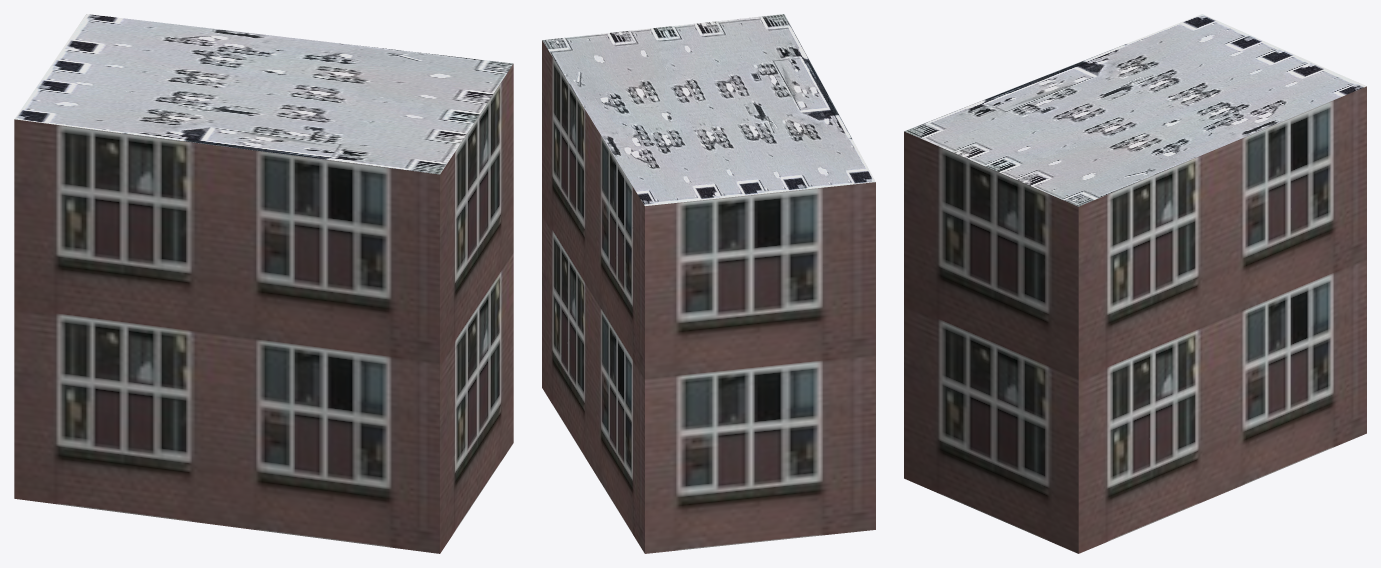
Rendered from ResTex__1568.fbx.
3 views of the same model, side by side, from view 1: azimuth 30°, elevation 25°; view 2: azimuth 150°, elevation 25°; view 3: azimuth 270°, elevation 25° (orthographic). The views are drawn at different scales.
Parts seen in each view (by area): view 1: CityEngineMaterial_12_m, CityEngineMaterial_4_m; view 2: CityEngineMaterial_12_m, CityEngineMaterial_4_m; view 3: CityEngineMaterial_12_m, CityEngineMaterial_4_m.
Boxes of the visible parts, bbox=[...] form: CityEngineMaterial_12_m: bbox=[14, 64, 513, 553]; CityEngineMaterial_4_m: bbox=[14, 14, 513, 174]; CityEngineMaterial_12_m: bbox=[542, 40, 875, 553]; CityEngineMaterial_4_m: bbox=[542, 14, 875, 206]; CityEngineMaterial_12_m: bbox=[904, 86, 1366, 553]; CityEngineMaterial_4_m: bbox=[904, 14, 1366, 206].
Bounding box in the file's own units: 7.14 × 6 × 7.25.
2 materials, 2 textured.
